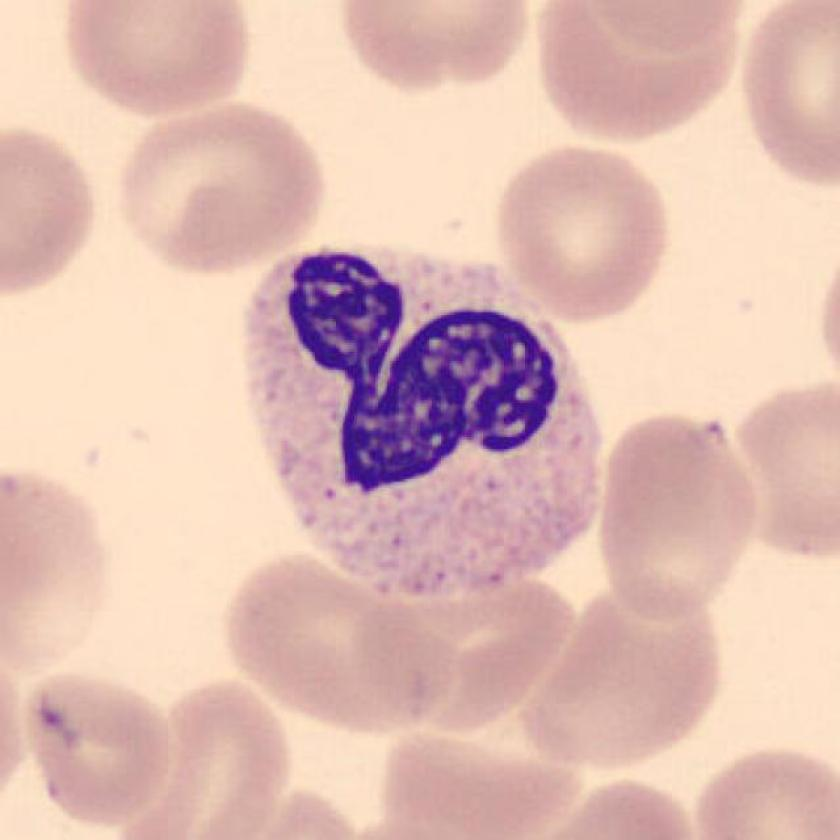neutrophil: (248, 248, 606, 598)
